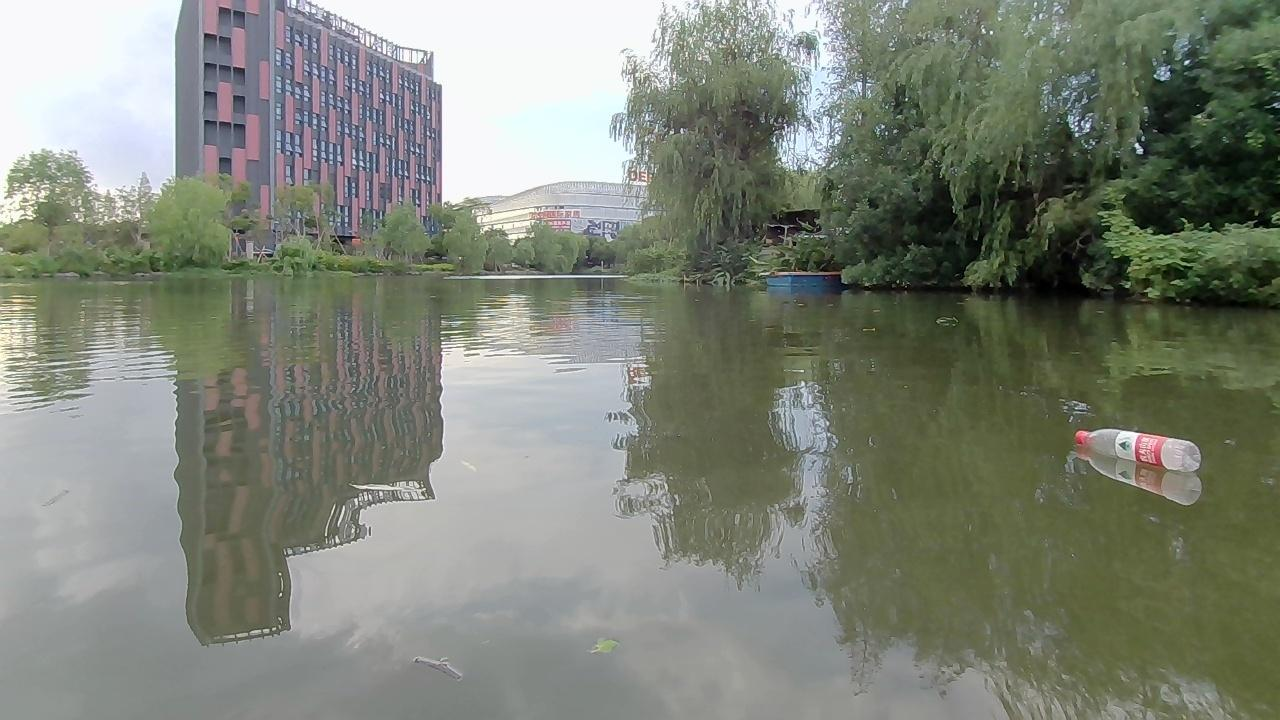bottle: (1071, 425, 1201, 476)
